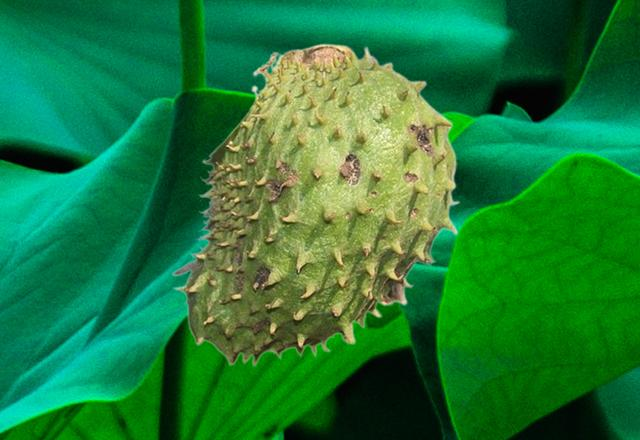guyabano: (171, 43, 459, 366)
